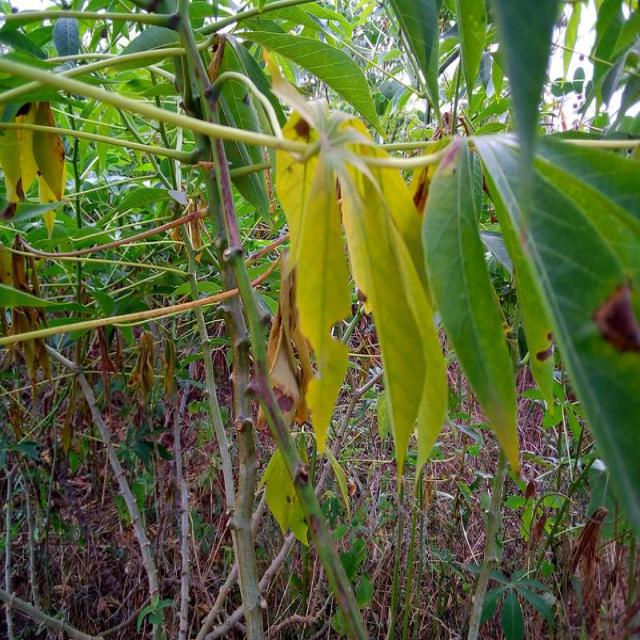cassava leaf: (470, 128, 639, 542), (274, 98, 447, 496), (420, 134, 521, 479)
